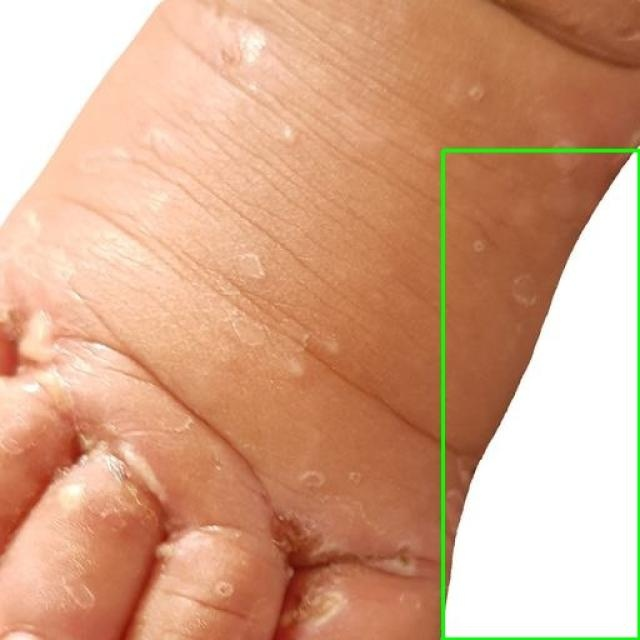Scabies: (442, 150, 639, 639)
